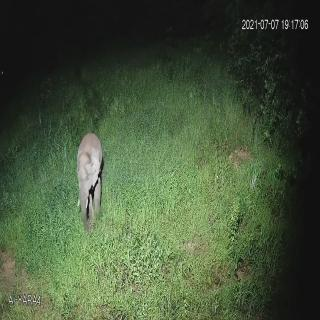Elephant: (74, 128, 110, 238)
